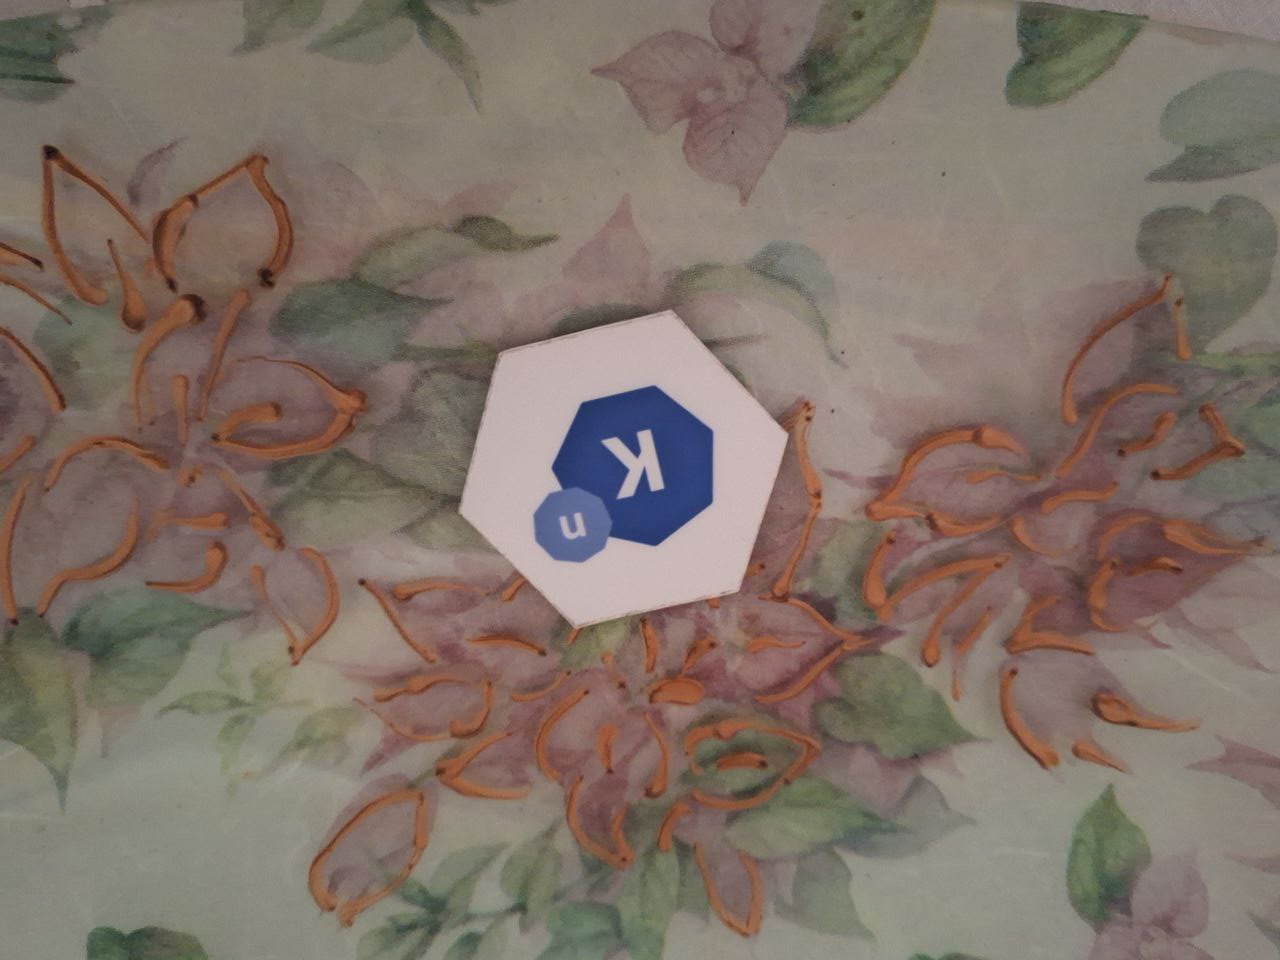knative: (532, 387, 716, 564)
